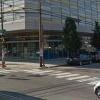Crosswalk: (21, 60, 92, 85)
